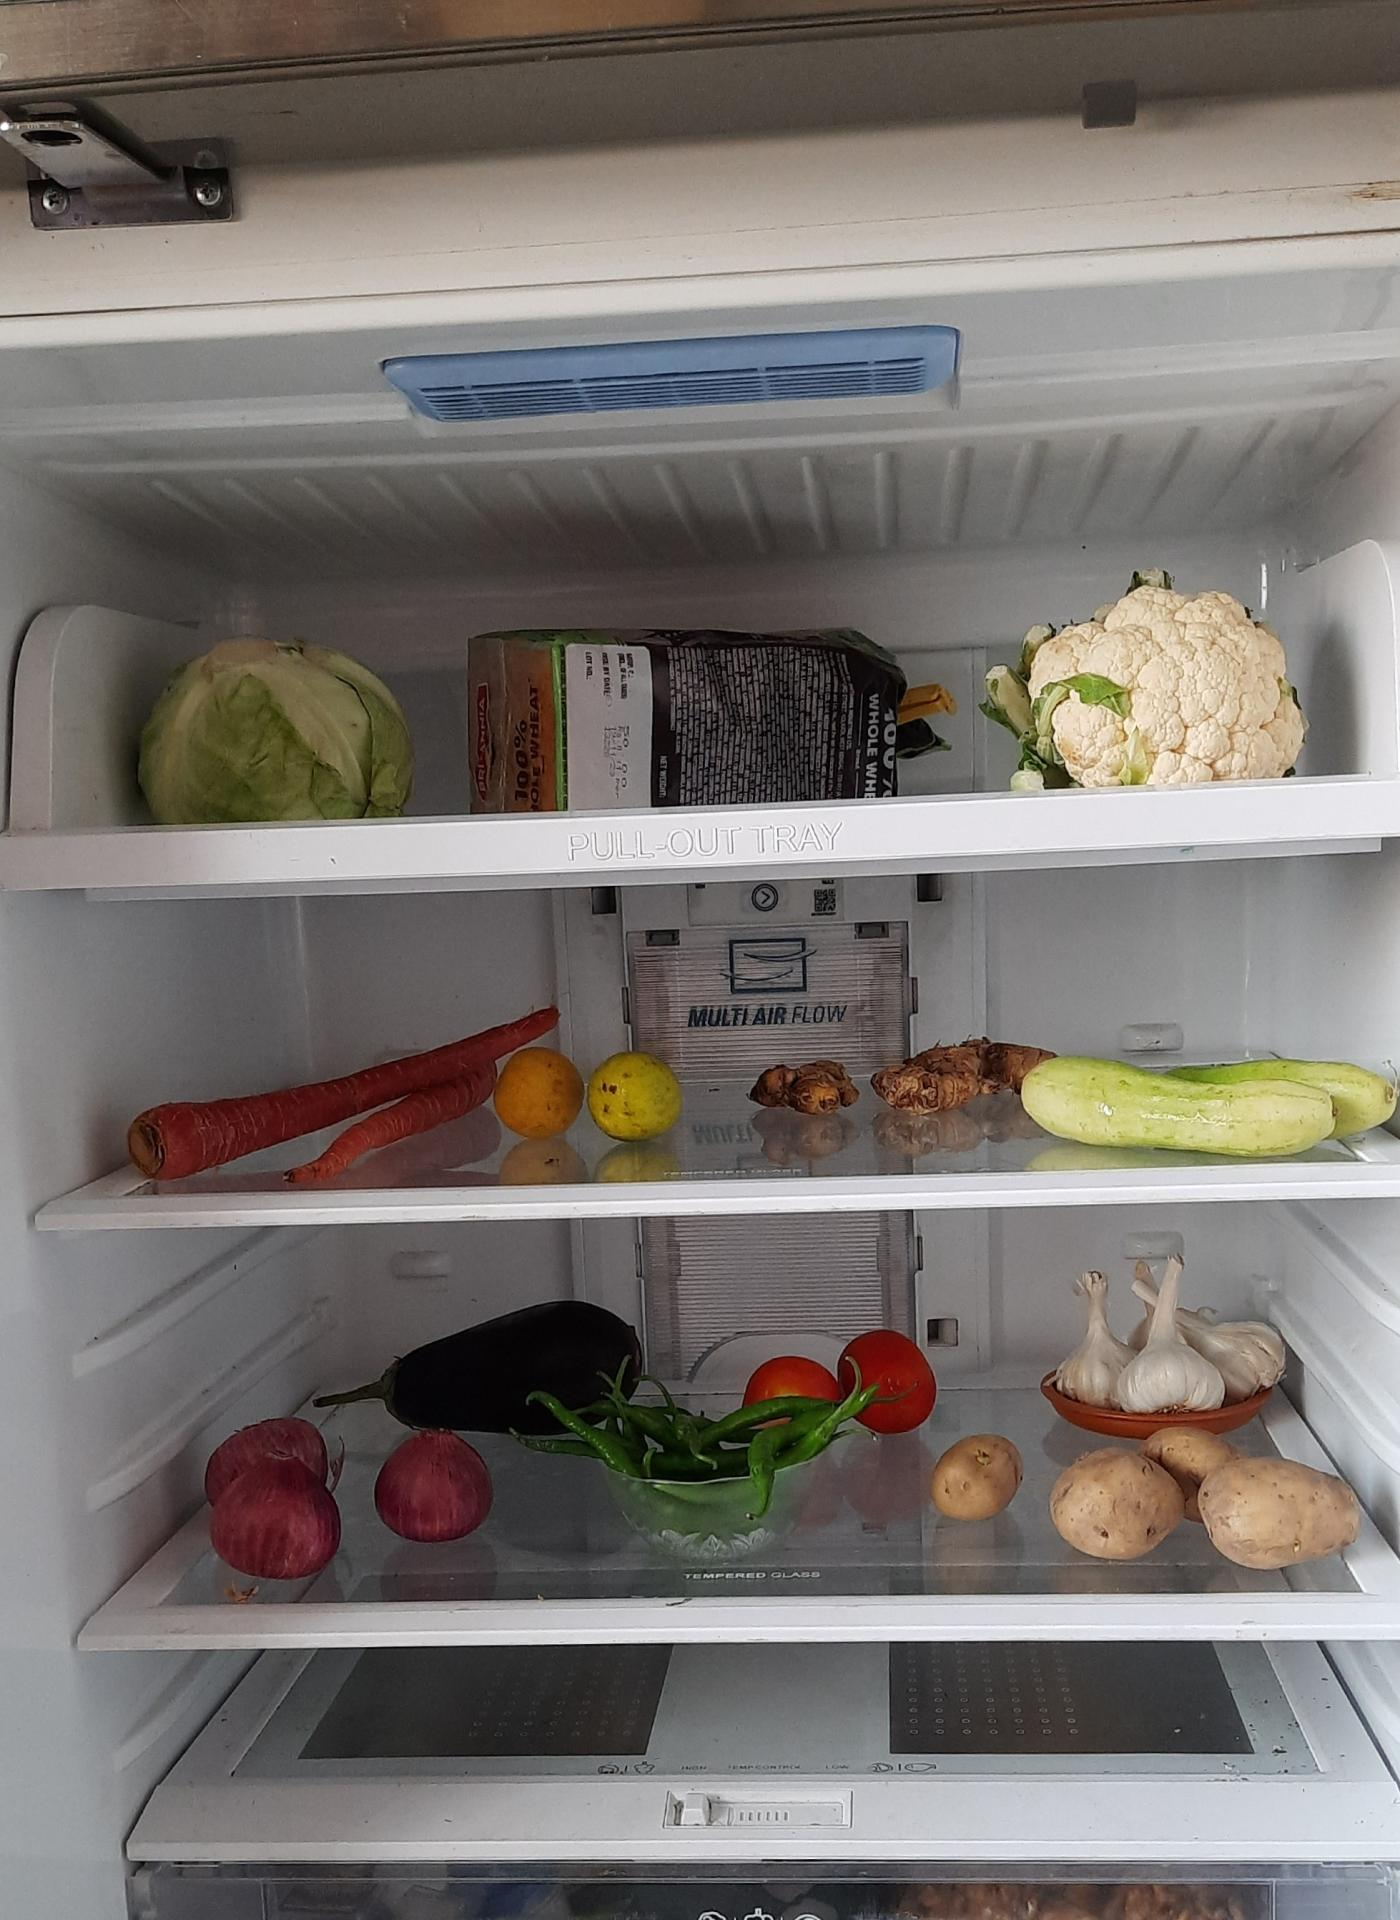bread: (462, 598, 978, 803), (869, 1866, 1281, 1920)
brinjal: (300, 1301, 658, 1434)
cabbage: (139, 631, 413, 820)
carrots: (133, 1018, 505, 1199)
cauliflower: (1005, 571, 1312, 789)
chillies: (593, 1391, 874, 1535)
cucumber: (1030, 1057, 1400, 1154)
garlic: (1057, 1246, 1294, 1412)
ginger: (747, 1045, 1057, 1148)
lemon: (584, 1040, 689, 1140), (495, 1048, 581, 1145)
onion: (206, 1404, 346, 1585), (379, 1424, 496, 1553)
potato: (1048, 1413, 1363, 1562), (926, 1430, 1024, 1525)
tomato: (744, 1319, 930, 1419)
